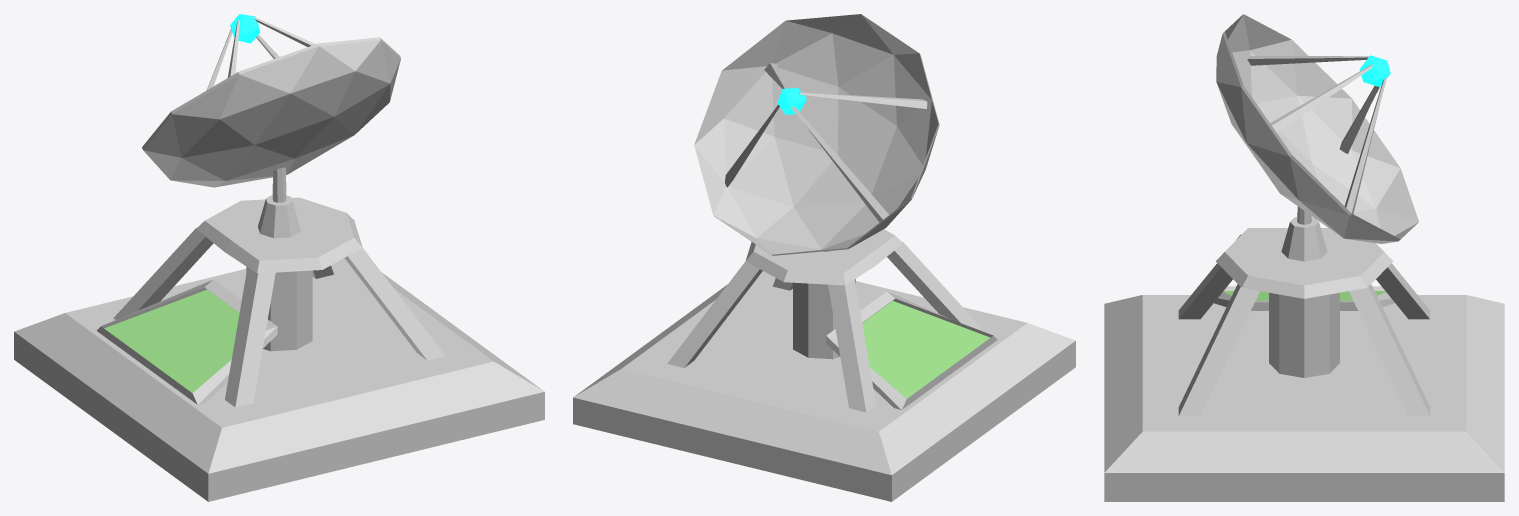
Rendered from receiver.fbx.
3 renders of one model, left to right at view 1: azimuth 30°, elevation 25°; view 2: azimuth 150°, elevation 25°; view 3: azimuth 270°, elevation 25°, orthographic. The views are drawn at different scales.
Parts seen in each view (by area): view 1: antenna_legs, antenna_legs.002; view 2: antenna_legs, antenna_legs.002; view 3: antenna_legs, antenna_legs.002.
Part boxes in pixels (x1,y1,x2,y2): antenna_legs: (14,195,544,501); antenna_legs.002: (142,14,400,202); antenna_legs: (573,229,1075,501); antenna_legs.002: (694,14,939,255); antenna_legs: (1104,217,1504,501); antenna_legs.002: (1216,14,1418,243).
Bounding box in the file's own units: 186 × 198 × 186.
